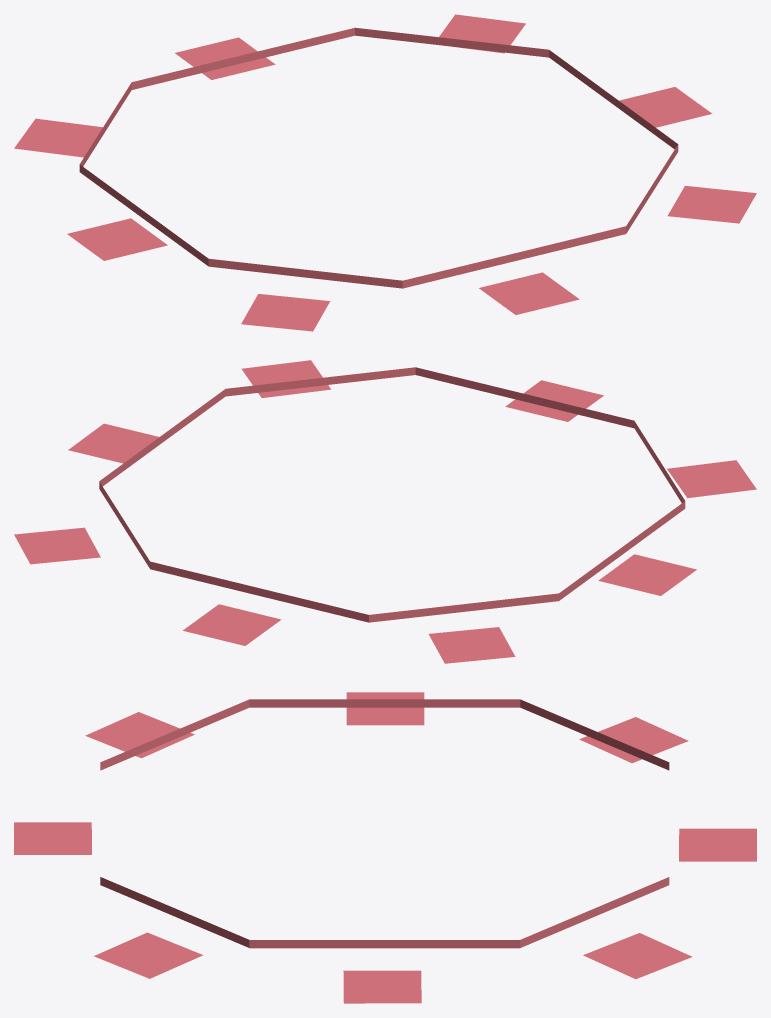
File: emmisive-Lights.fbx
3 renders of one model, top to bottom at view 1: azimuth 30°, elevation 25°; view 2: azimuth 150°, elevation 25°; view 3: azimuth 270°, elevation 25°, orthographic. The views are drawn at different scales.
Parts seen in each view (by area): view 1: Ceiling Emmisive, Plane.001, Plane, Plane.006, Plane.007, Plane.002, Plane.005, Plane.003, Plane.004; view 2: Ceiling Emmisive, Plane.003, Plane.004, Plane.002, Plane.001, Plane, Plane.005, Plane.007, Plane.006; view 3: Ceiling Emmisive, Plane.005, Plane.003, Plane.006, Plane.004, Plane.007, Plane.002, Plane.001, Plane.
Part boxes in pixels (bbox=[...]): Ceiling Emmisive: bbox=[79, 27, 678, 288]; Plane.001: bbox=[241, 294, 330, 331]; Plane: bbox=[67, 218, 167, 260]; Plane.006: bbox=[667, 185, 756, 223]; Plane.007: bbox=[479, 272, 579, 314]; Plane.002: bbox=[14, 118, 102, 157]; Plane.005: bbox=[619, 87, 712, 127]; Plane.003: bbox=[175, 37, 275, 79]; Plane.004: bbox=[439, 14, 525, 53]; Ceiling Emmisive: bbox=[99, 367, 685, 622]; Plane.003: bbox=[183, 604, 281, 645]; Plane.004: bbox=[14, 527, 100, 564]; Plane.002: bbox=[428, 627, 515, 663]; Plane.001: bbox=[667, 460, 756, 498]; Plane: bbox=[598, 554, 696, 595]; Plane.005: bbox=[68, 423, 159, 463]; Plane.007: bbox=[505, 380, 603, 421]; Plane.006: bbox=[241, 360, 330, 397]; Ceiling Emmisive: bbox=[100, 699, 669, 948]; Plane.005: bbox=[343, 970, 421, 1003]; Plane.003: bbox=[679, 828, 756, 861]; Plane.006: bbox=[94, 932, 203, 978]; Plane.004: bbox=[583, 933, 692, 979]; Plane.007: bbox=[14, 822, 91, 854]; Plane.002: bbox=[579, 717, 688, 763]; Plane.001: bbox=[85, 712, 194, 758]; Plane: bbox=[346, 692, 424, 725].
Bounding box in the file's own units: 1125 × 38.87 × 1135.
